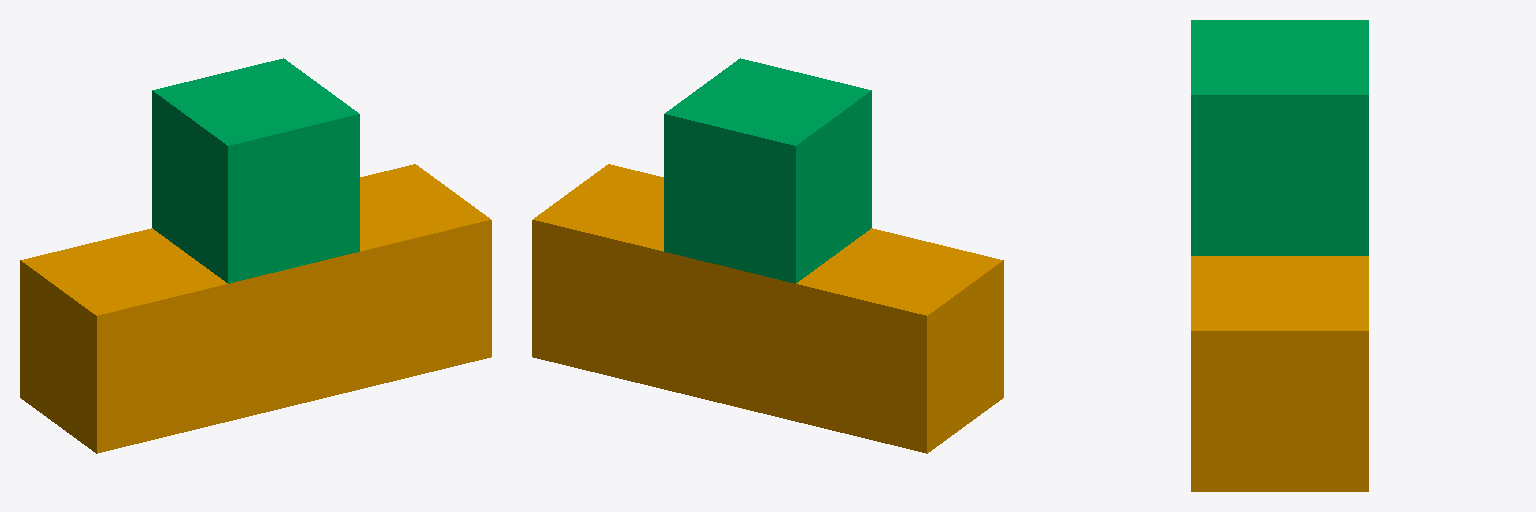
The robot description file, URDF, robot "Prismatic":
<robot name="Prismatic">
	<link name="base_link">
	
		<visual name="" with_col="true">
			<origin xyz="0 0 0" rpy="0 0 0"/>
			<geometry>
			<box size="0.3 0.1 0.1"/>
			</geometry>
			<material name="">
			
			</material>
		</visual>

	</link>
	
	
	<link name="slider">
	
		<visual name="" with_col="true">
			<origin xyz="0 0 0" rpy="0 0 0"/>
			<geometry>
			<box size="0.1 0.1 0.1"/>
			</geometry>
			<material name="">
			<color rgba="0 0.7 0.4 1"/>
			</material>
		</visual>

	</link>

	<joint name="slider_joint" type="prismatic" visible="true">
		<origin xyz="0 0 0.1" rpy="0 0 0"/>
		<parent link="base_link"/>
		<child link="slider"/>
		<axis xyz="1.0 0.0 0.0"/>
		<limit lower="-0.1" upper="0.1" effort="1.0" velocity="0.2"/>
	</joint>

</robot>

--- What the picture shows (computed from the rendered views, not written in the file) ---
The picture shows the robot from 3 angles, left to right: view 1: azimuth 30°, elevation 25°; view 2: azimuth 150°, elevation 25°; view 3: azimuth 270°, elevation 25°; orthographic projection.
Robot: Prismatic — 2 links, 1 joints (1 prismatic); root link base_link; default pose: all joints at 0.
Links seen in each view (by area): view 1: base_link, slider; view 2: base_link, slider; view 3: base_link, slider.
Link boxes in pixels (x1=…): base_link: x1=20, y1=164, x2=491, y2=453; slider: x1=152, y1=58, x2=359, y2=283; base_link: x1=532, y1=164, x2=1003, y2=453; slider: x1=664, y1=58, x2=871, y2=283; base_link: x1=1191, y1=256, x2=1368, y2=491; slider: x1=1191, y1=20, x2=1368, y2=255.
Bounding box of the posed robot: 0.3 × 0.1 × 0.2 m (x, y, z).
Geometry: primitives only (box / cylinder / sphere), no mesh files.